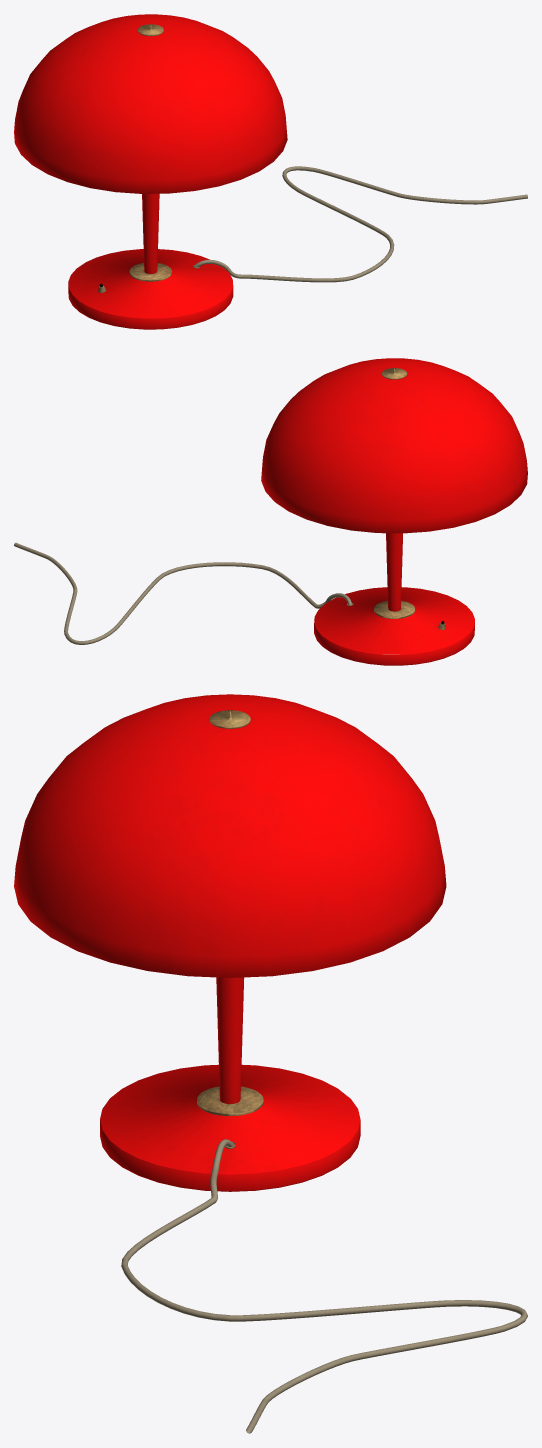
3 renders of one model, top to bottom at view 1: azimuth 30°, elevation 25°; view 2: azimuth 150°, elevation 25°; view 3: azimuth 270°, elevation 25°, orthographic. The views are drawn at different scales.
Visible parts, largest first — view 1: Sphere; view 2: Sphere; view 3: Sphere.
Part boxes in pixels (x1,y1,x2,y2): Sphere: (14, 14, 527, 329); Sphere: (14, 358, 527, 665); Sphere: (14, 694, 527, 1433).
Bounding box in the file's own units: 701 × 363 × 394.
Materials: 1 (1 with a texture image).
